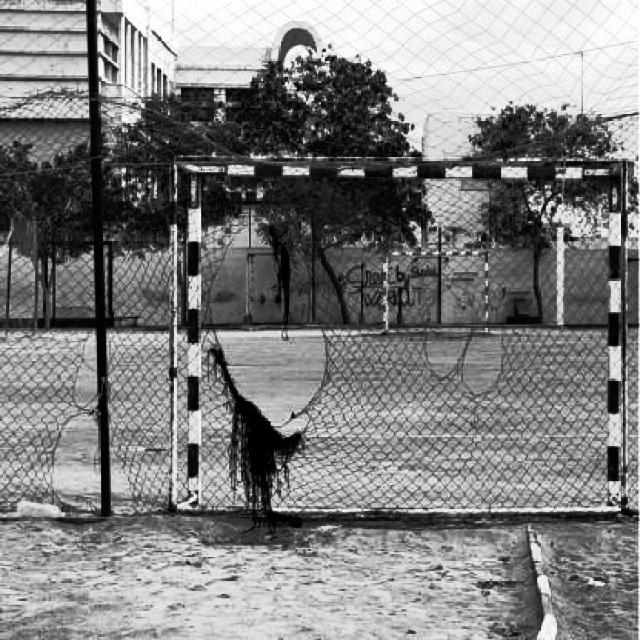anomaly-fence: (36, 56, 638, 522)
